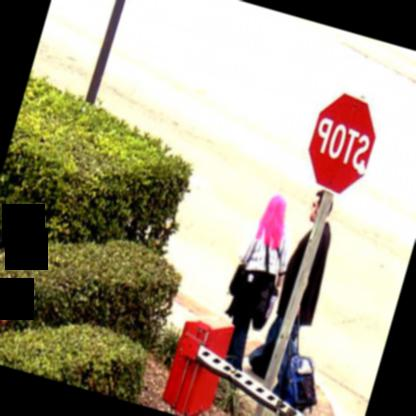backpack: (282, 352, 325, 416)
handbag: (235, 245, 278, 328), (229, 265, 245, 296)
suitcase: (272, 353, 317, 413)
